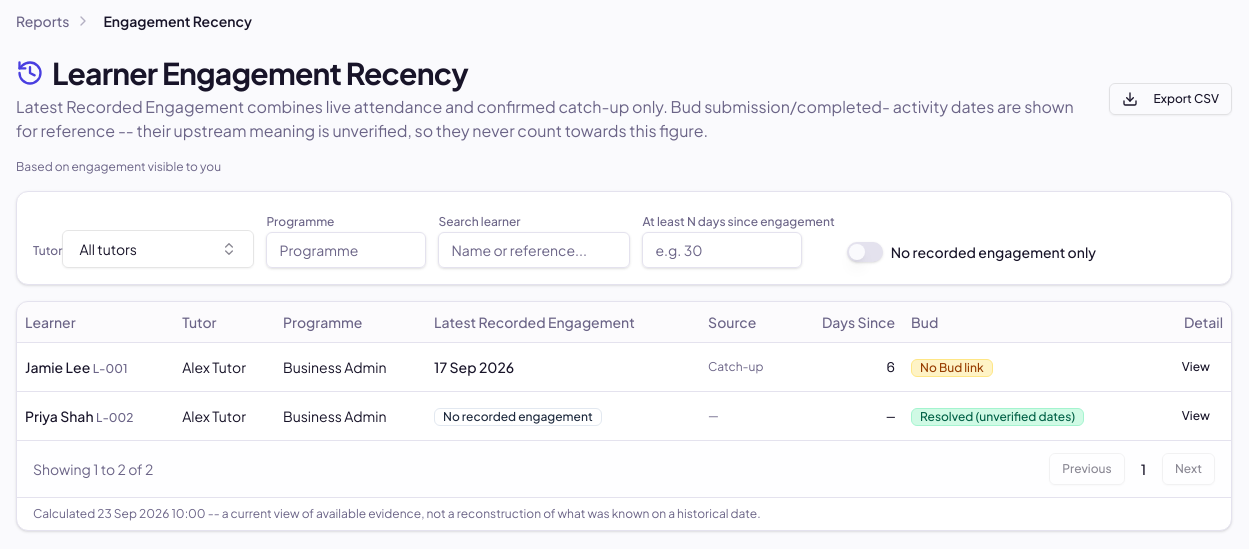
Scenario: EngagementRecencyReportPage › sends the no-recorded-engagement toggle to the server and disables the min-days input while it is on
Click the switch named "No recorded engagement only": (865, 252) [847, 242, 883, 262]
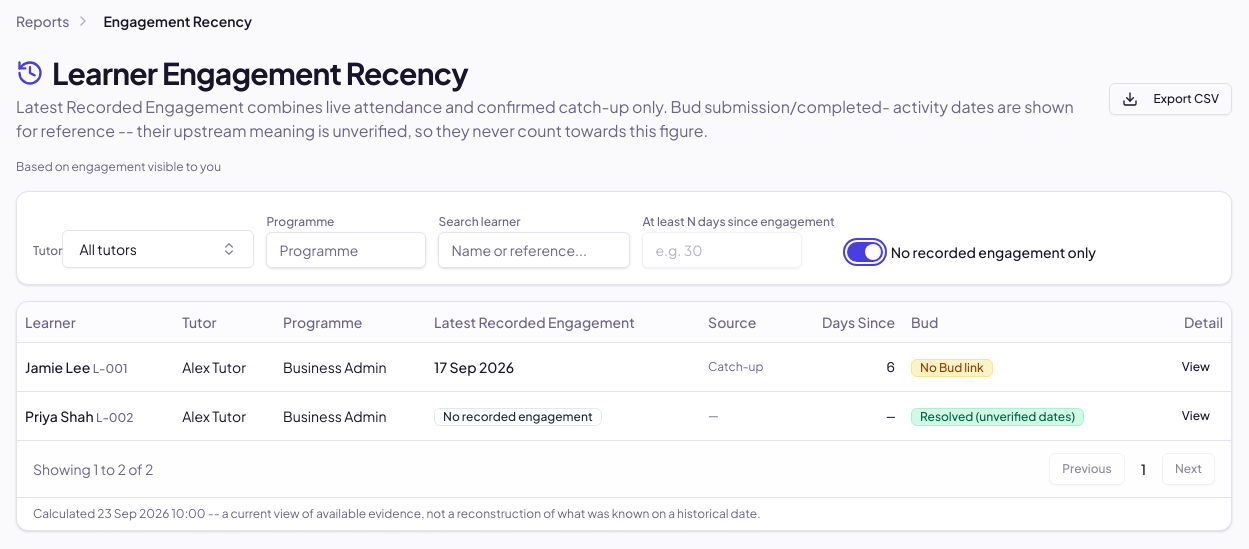
Expected: the number field with placeholder "e.g. 30" is disabled, [642, 232, 802, 268]
